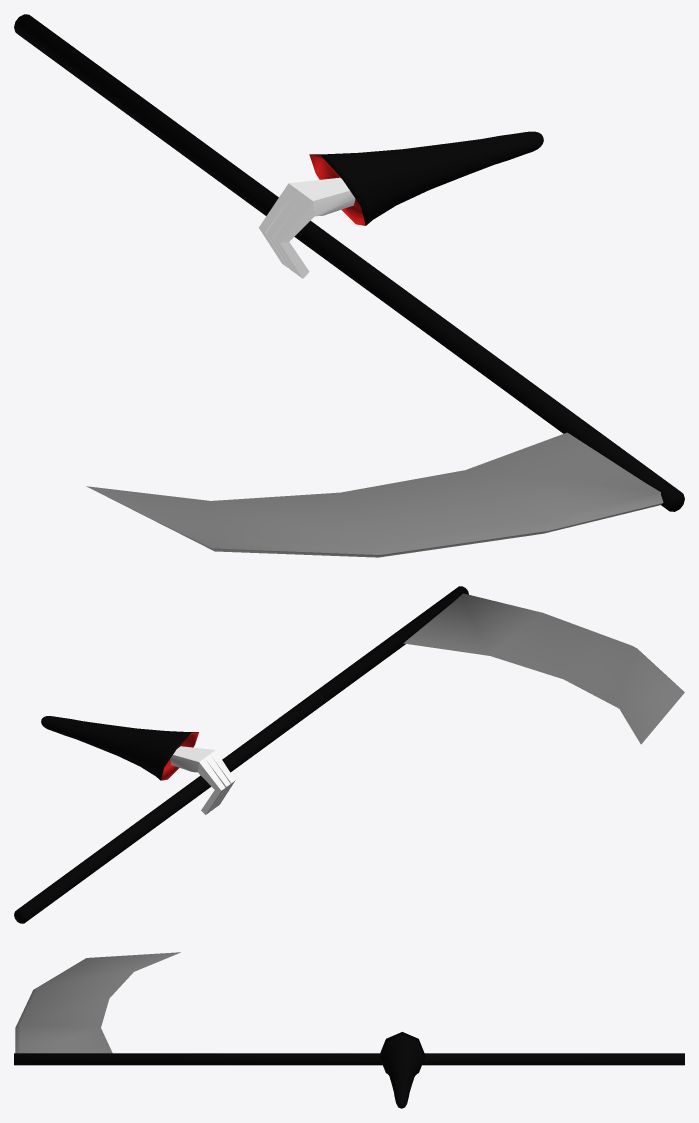
The model's file is PuroHueso_Brazo_R_2.obj.
3 views of the same model, one above another, from view 1: azimuth 30°, elevation 25°; view 2: azimuth 150°, elevation 25°; view 3: azimuth 270°, elevation 25° (orthographic). The views are drawn at different scales.
Visible parts, largest first — view 1: PuroHueso_Brazo_R_2; view 2: PuroHueso_Brazo_R_2; view 3: PuroHueso_Brazo_R_2.
Part boxes in pixels (x1,y1,x2,y2): PuroHueso_Brazo_R_2: (14,14,684,557); PuroHueso_Brazo_R_2: (14,586,684,923); PuroHueso_Brazo_R_2: (14,952,684,1108).
Size of the model in its own units: 1.21 by 0.1849 by 2.03.
Materials: 1 (1 with a texture image).
